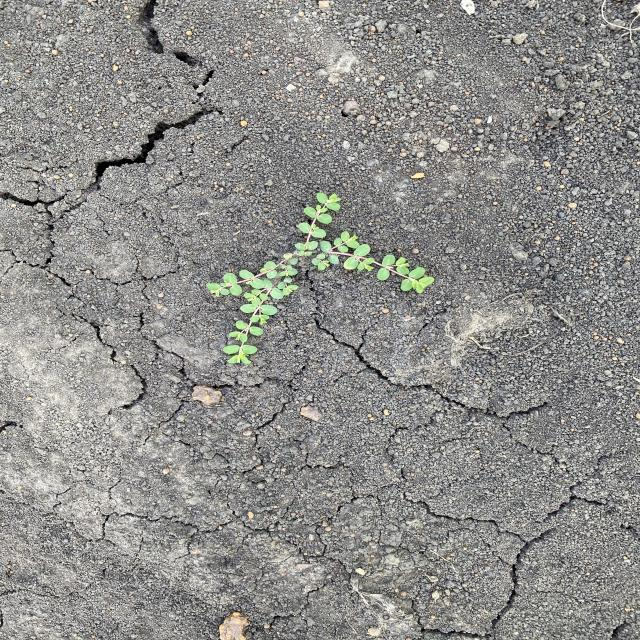SpottedSpurge: (203, 190, 437, 366)
